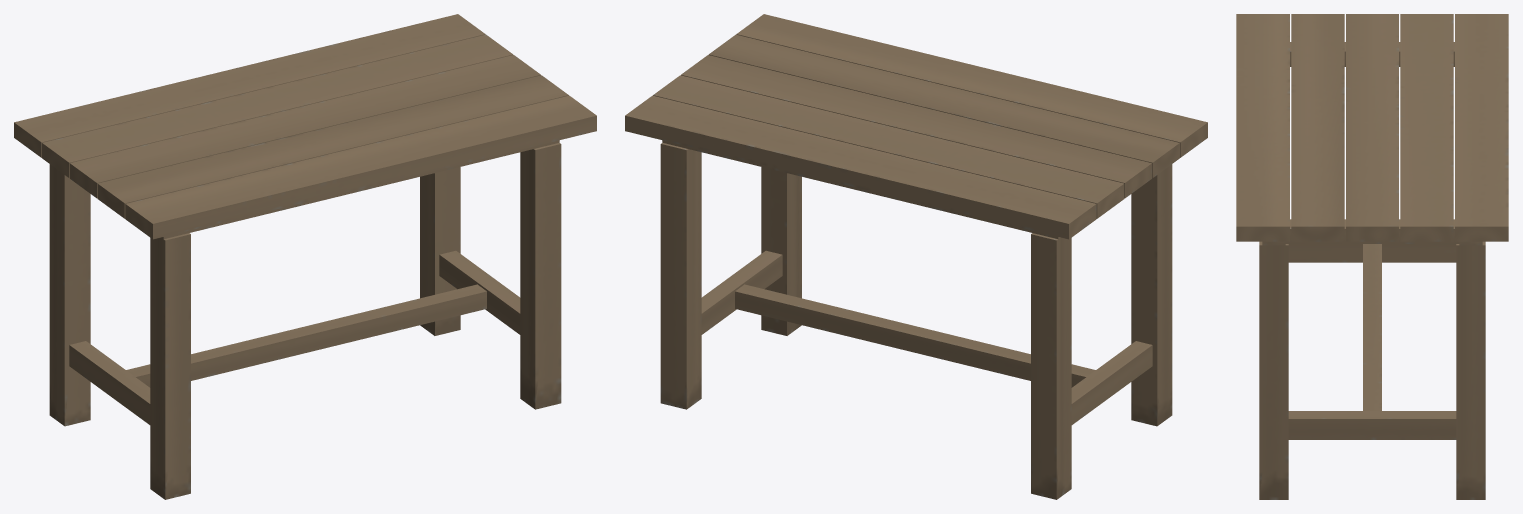
File: forest_ranger_shelter_props_table.glb
3 views of the same model, side by side, from view 1: azimuth 30°, elevation 25°; view 2: azimuth 150°, elevation 25°; view 3: azimuth 270°, elevation 25° (orthographic).
Parts seen in each view (by area): view 1: RangerPropsTable; view 2: RangerPropsTable; view 3: RangerPropsTable.
Boxes of the visible parts, x1,y1,x2,y2 form: RangerPropsTable: (14, 14, 596, 499); RangerPropsTable: (625, 14, 1207, 499); RangerPropsTable: (1236, 14, 1508, 499).
Size of what is drawn, in the model's own units: 1.2 by 0.75 by 0.65.
Materials: 1 (1 with a texture image).
